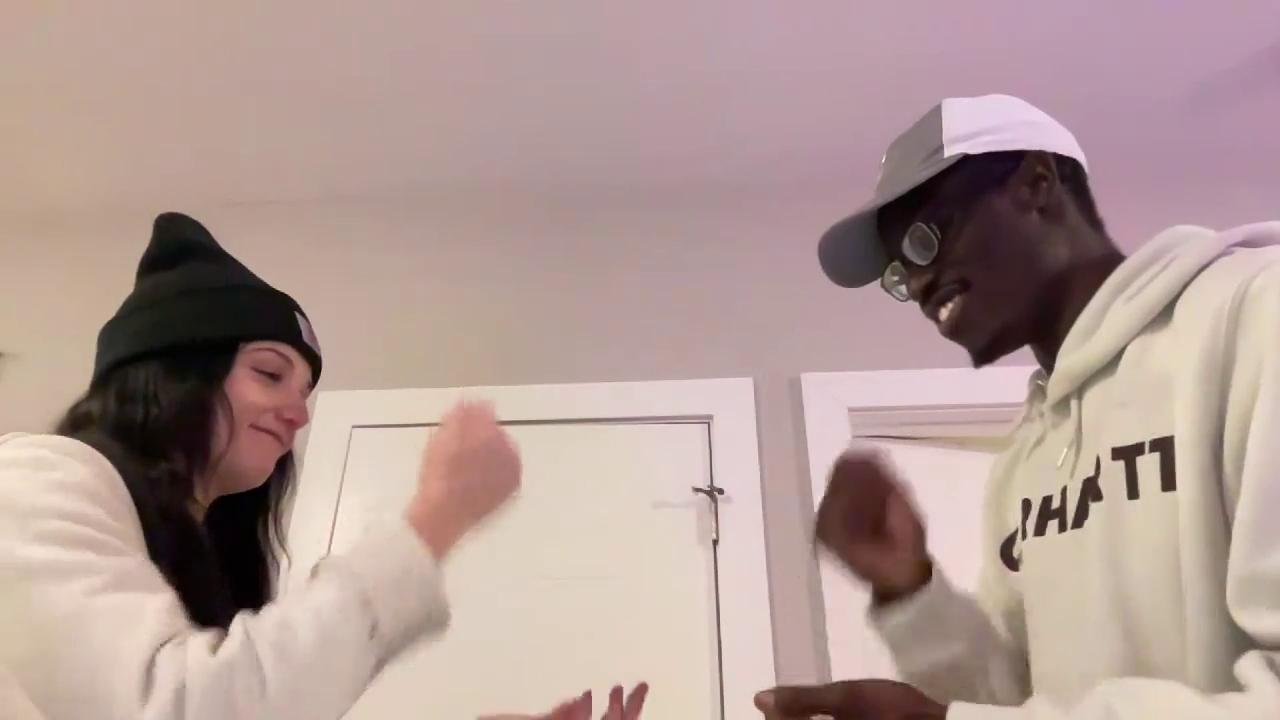Rock: (810, 450, 929, 585), (418, 402, 525, 522)
